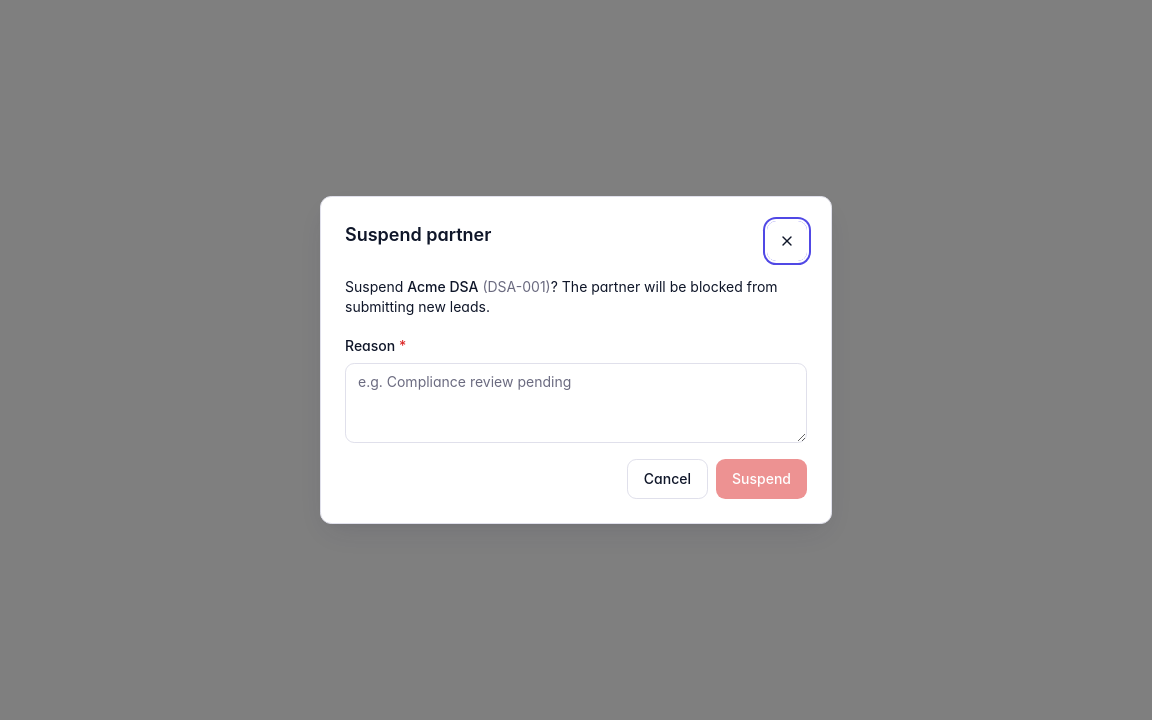
Test: PartnerStatusDialog › surfaces a CONFLICT (stale state) reason inline
Type "x" into the text box labelled "Reason *". click: (576, 403)
box: [345,363,807,443]
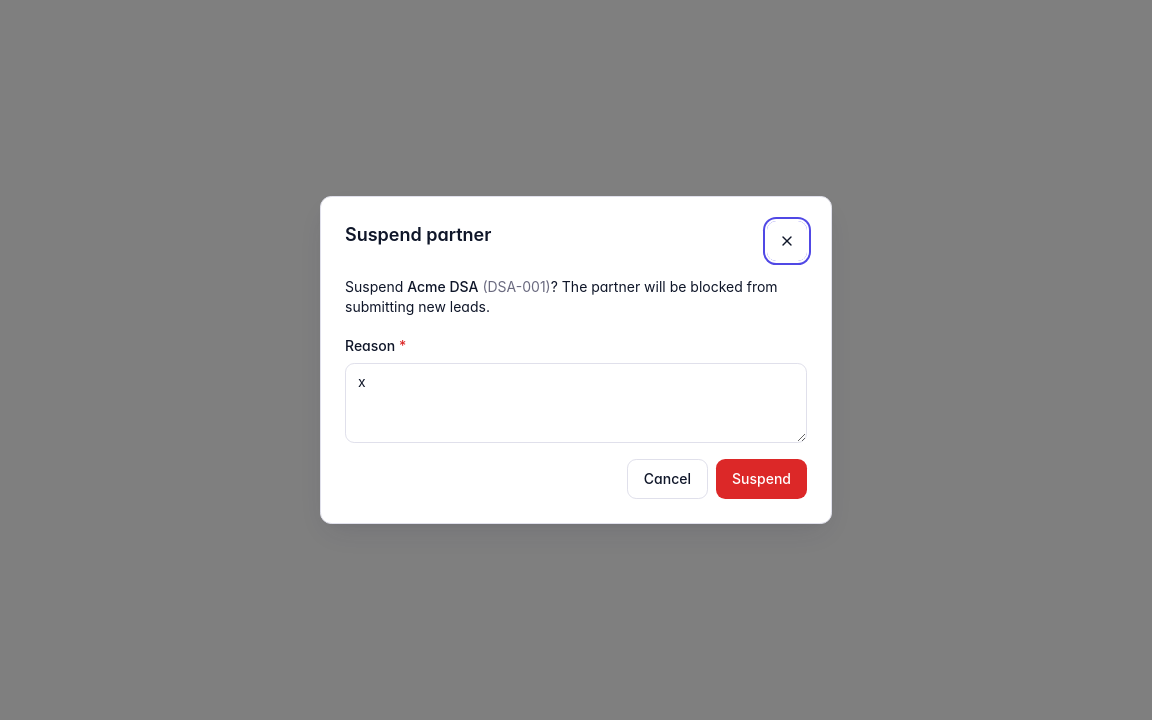
Click the button "Suspend". click: click(762, 479)
box: [716,459,807,499]
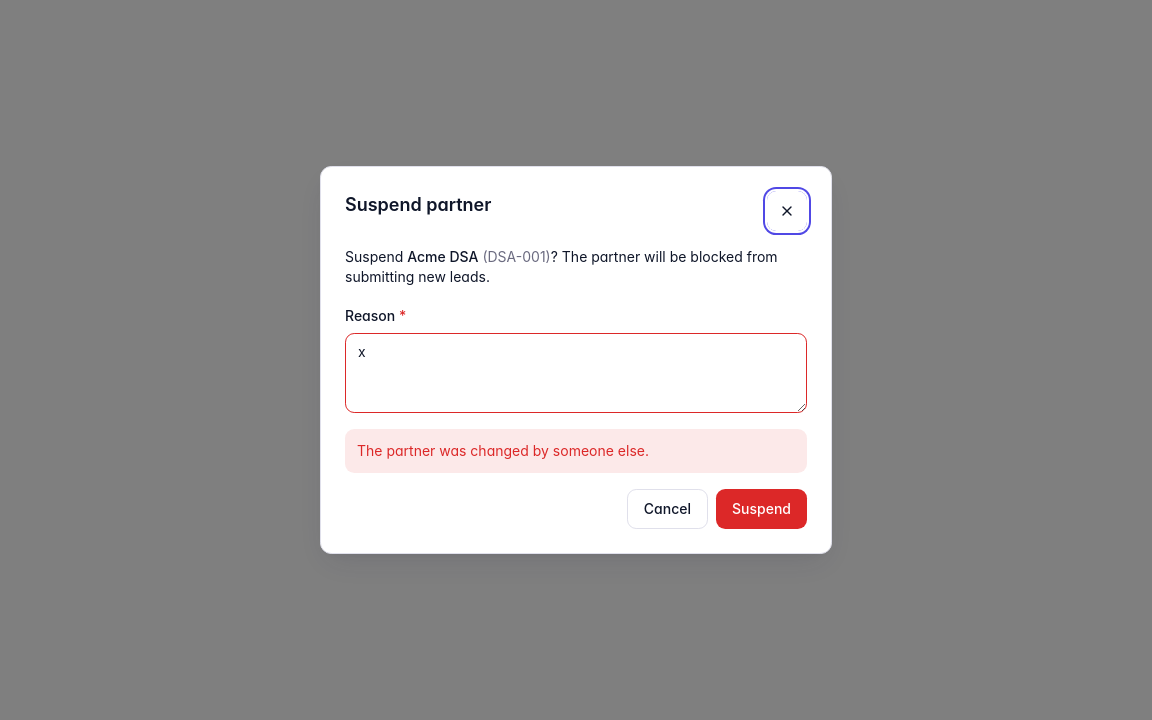
Expected: the text "The partner was changed by someone else." is shown, [345,429,807,473]
